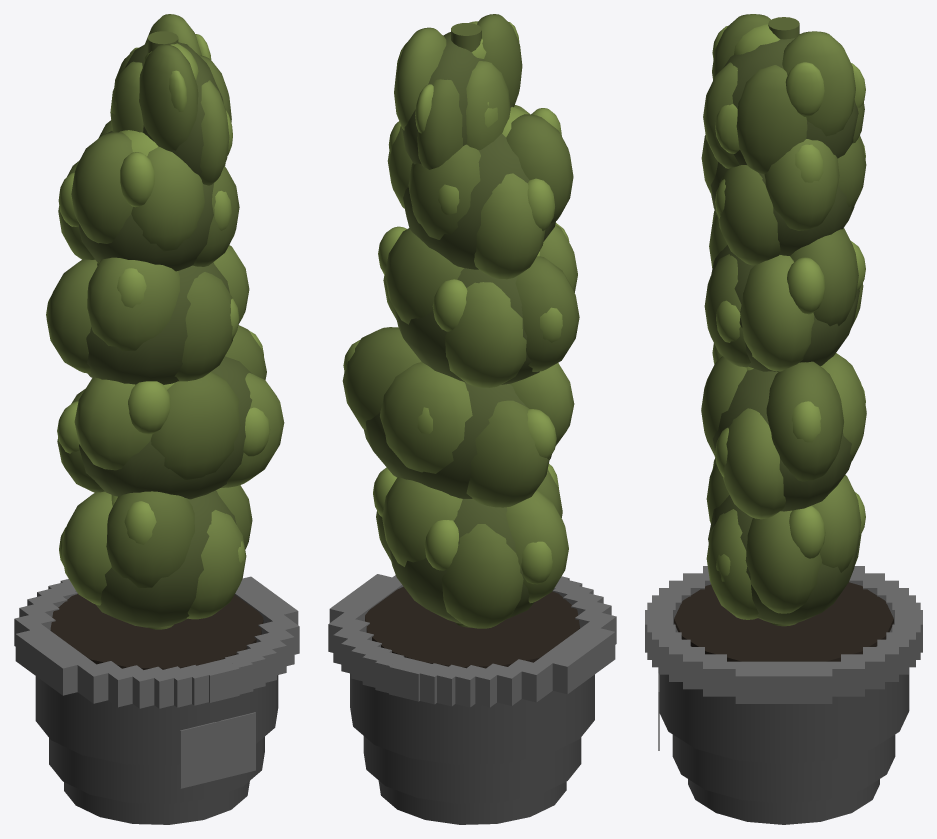
Rendered from CMU3DPottedPlant23.glb.
3 renders of one model, left to right at view 1: azimuth 30°, elevation 25°; view 2: azimuth 150°, elevation 25°; view 3: azimuth 270°, elevation 25°, orthographic. The views are drawn at different scales.
Visible parts, largest first — view 1: rounded irregular leaf spray (×21), shadowed foliage core (×5), hollow curved planter rim (×16), upper pot wall, recessed soil, fine leafy crown edge (×9), lower tapered pot wall, pot front highlight, narrow pot foot; view 2: rounded irregular leaf spray (×19), shadowed foliage core (×5), hollow curved planter rim (×16), upper pot wall, recessed soil, fine leafy crown edge (×9), lower tapered pot wall, narrow pot foot, branch; view 3: rounded irregular leaf spray (×19), shadowed foliage core (×5), upper pot wall, hollow curved planter rim (×8), recessed soil, lower tapered pot wall, fine leafy crown edge (×7), narrow pot foot, crown highlight, branch.
Boxes of the visible parts, x1,y1,x2,y2 form: rounded irregular leaf spray (×21): (46, 14, 284, 619); shadowed foliage core (×5): (79, 42, 252, 627); hollow curved planter rim (×16): (14, 576, 299, 708); upper pot wall: (35, 675, 278, 765); recessed soil: (50, 594, 263, 669); fine leafy crown edge (×9): (57, 70, 270, 544); lower tapered pot wall: (49, 737, 264, 803); pot front highlight: (180, 712, 255, 788); narrow pot foot: (64, 781, 249, 824); rounded irregular leaf spray (×19): (342, 14, 579, 628); shadowed foliage core (×5): (363, 32, 555, 623); hollow curved planter rim (×16): (328, 574, 616, 707); upper pot wall: (350, 673, 594, 764); recessed soil: (365, 586, 579, 668); fine leafy crown edge (×9): (373, 84, 562, 584); lower tapered pot wall: (363, 736, 581, 803); narrow pot foot: (378, 781, 566, 824); branch: (451, 23, 481, 51); rounded irregular leaf spray (×19): (701, 14, 866, 619); shadowed foliage core (×5): (708, 38, 859, 624); upper pot wall: (658, 627, 909, 764); hollow curved planter rim (×8): (659, 639, 908, 703); recessed soil: (674, 582, 893, 661); lower tapered pot wall: (672, 734, 895, 803); fine leafy crown edge (×7): (715, 62, 825, 558); narrow pot foot: (688, 779, 879, 824); crown highlight: (734, 24, 779, 55); branch: (768, 17, 799, 39).
Size of the model in its own units: 0.29 by 0.8839 by 0.2894.
